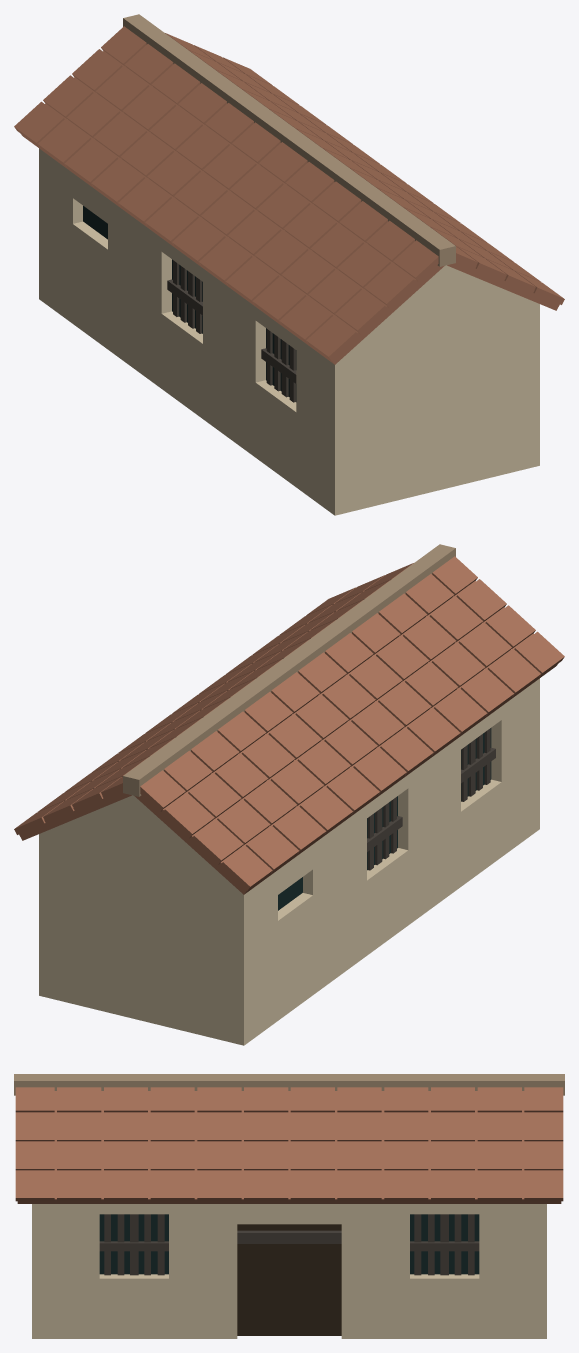
File: Building_mode_L2_Northhouse016.fbx
The picture shows the model from 3 angles, top to bottom: view 1: azimuth 30°, elevation 25°; view 2: azimuth 150°, elevation 25°; view 3: azimuth 270°, elevation 25°; orthographic projection. The views are drawn at different scales.
Visible parts, largest first — view 1: Building_mode_L2_Northhouse016; view 2: Building_mode_L2_Northhouse016; view 3: Building_mode_L2_Northhouse016.
Boxes of the visible parts, x1,y1,x2,y2 form: Building_mode_L2_Northhouse016: (14,14,564,515); Building_mode_L2_Northhouse016: (14,544,564,1045); Building_mode_L2_Northhouse016: (14,1074,564,1338).
Size of the model in its own units: 2.79 by 2.83 by 6.49.
